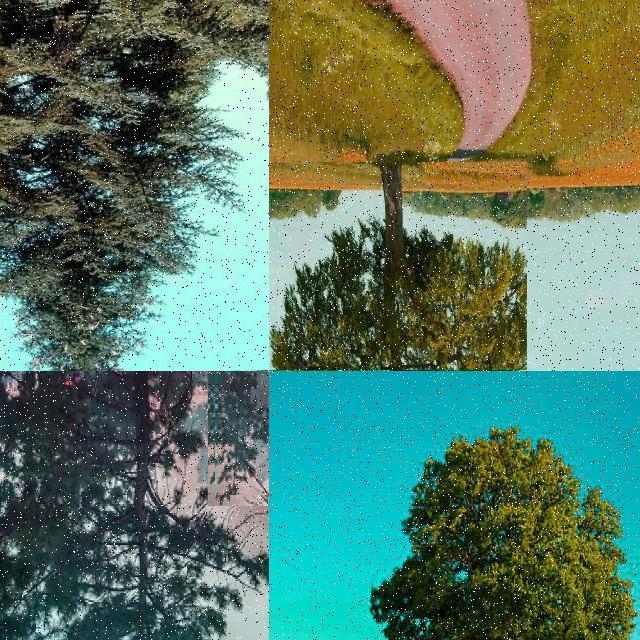tree: (0, 0, 269, 371), (0, 371, 269, 640), (371, 416, 639, 640), (269, 162, 527, 370), (208, 370, 268, 506), (215, 371, 269, 495)
